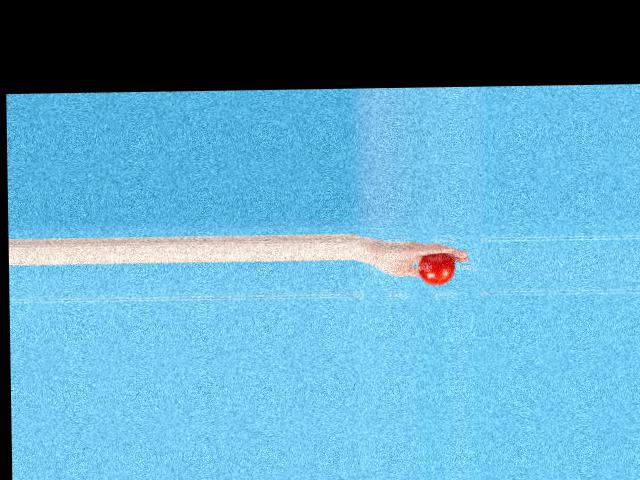tomato: (418, 253, 455, 285)
